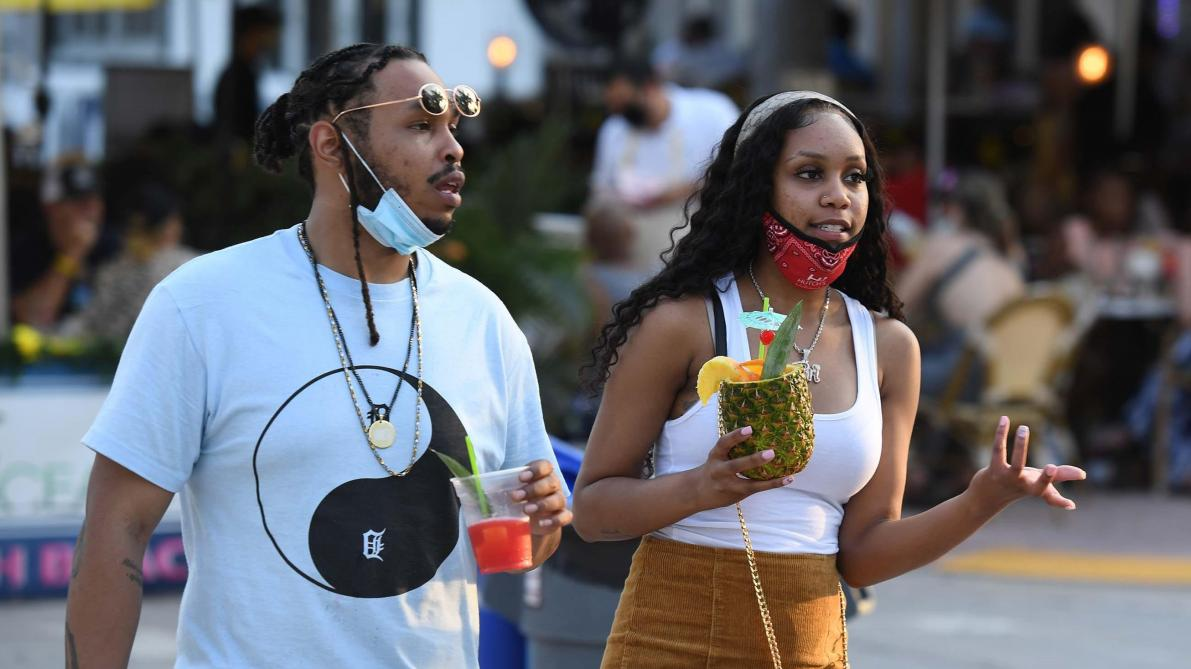with_incorrect_mask: (761, 143, 869, 293), (369, 94, 468, 257)
